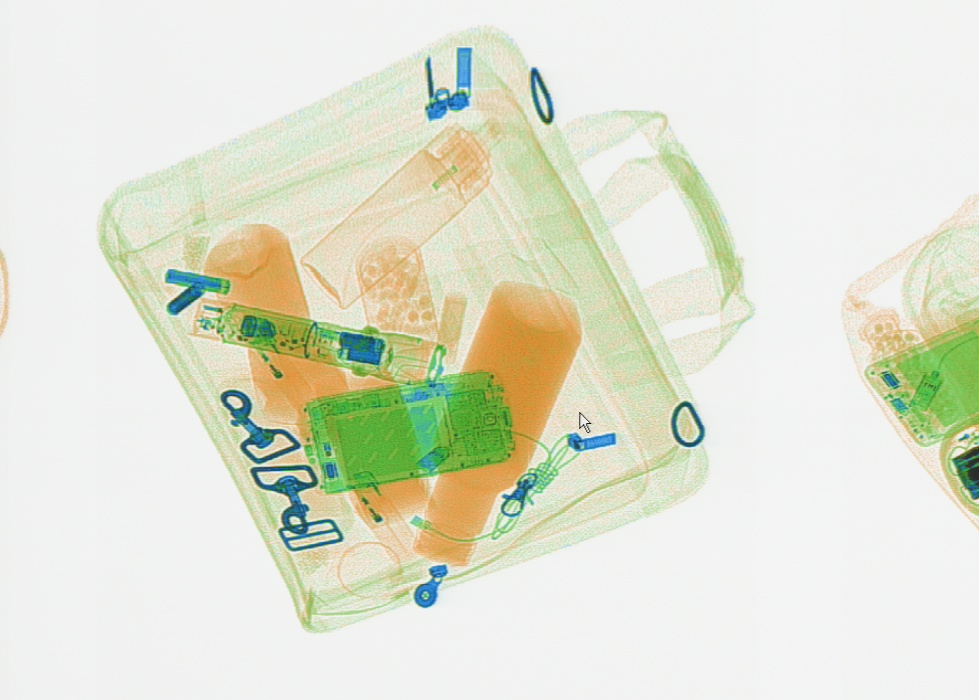lighter: (339, 467, 425, 571), (234, 314, 313, 405)
